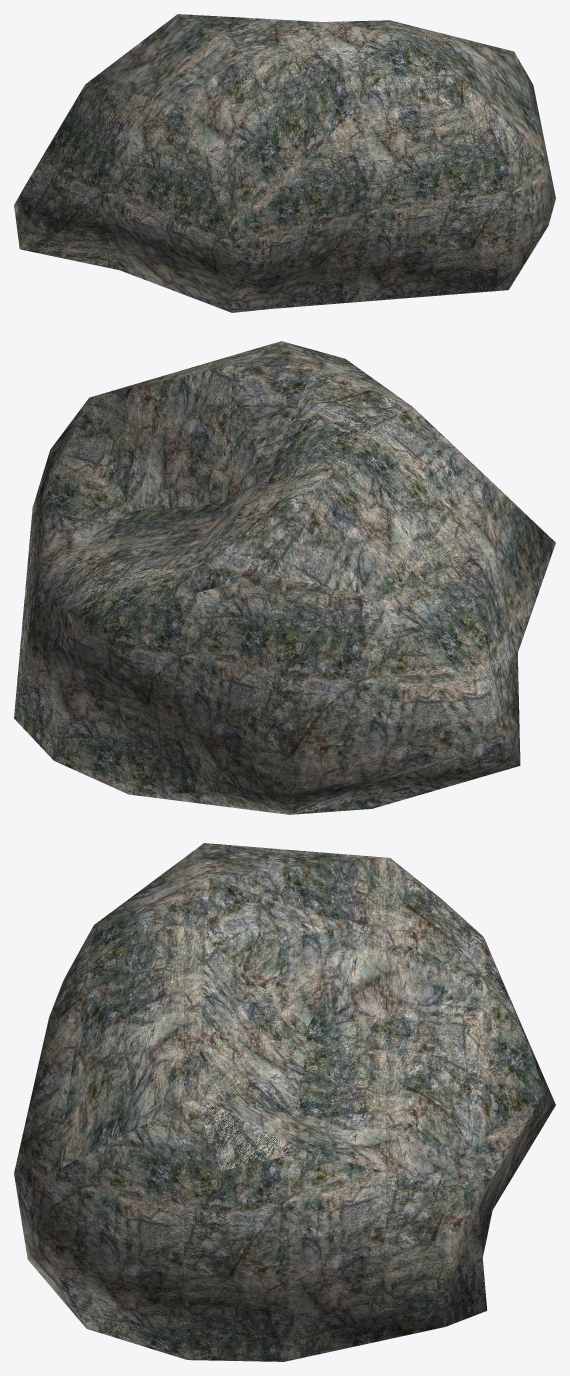
File: smallrock01.glb
3 views of the same model, one above another, from view 1: azimuth 30°, elevation 25°; view 2: azimuth 150°, elevation 25°; view 3: azimuth 270°, elevation 25° (orthographic). The views are drawn at different scales.
Parts seen in each view (by area): view 1: node-SmallStoneOne256; view 2: node-SmallStoneOne256; view 3: node-SmallStoneOne256.
Part boxes in pixels (bbox=[...]): node-SmallStoneOne256: bbox=[14, 14, 555, 312]; node-SmallStoneOne256: bbox=[14, 341, 555, 814]; node-SmallStoneOne256: bbox=[14, 843, 555, 1361].
Bounding box in the file's own units: 0.6557 × 0.4008 × 0.511.
Materials: 1 (1 with a texture image).
